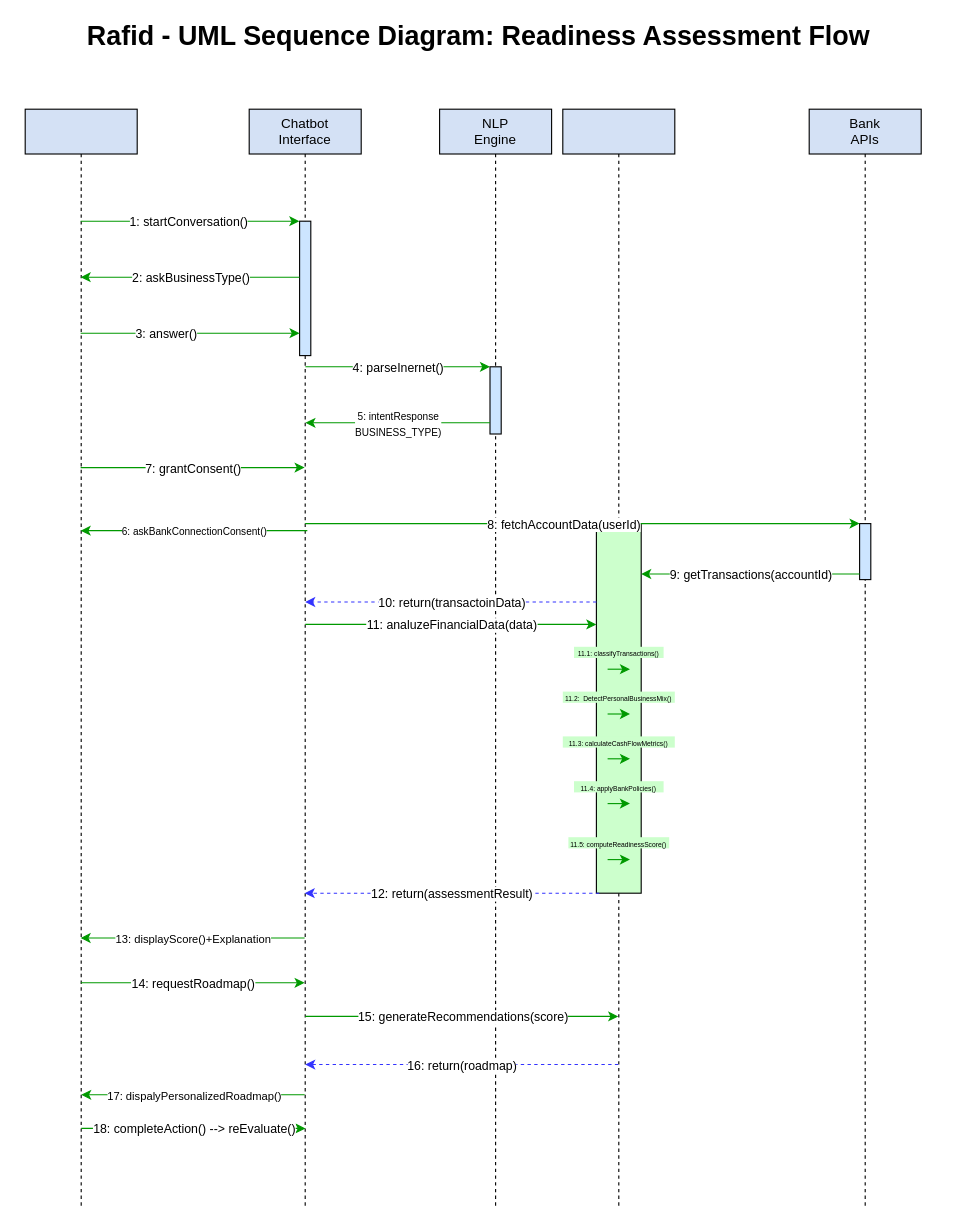
Image size: 956x1226. Some labels were removed from this diagram. Here are the shapes that lost their labels. From the top down, the box of each, then its label:
(24, 108, 137, 1207): SME Owner
(562, 108, 675, 1207): FRE Engine
